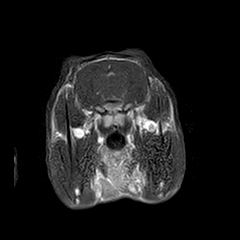Brain: (61, 24, 160, 122)
